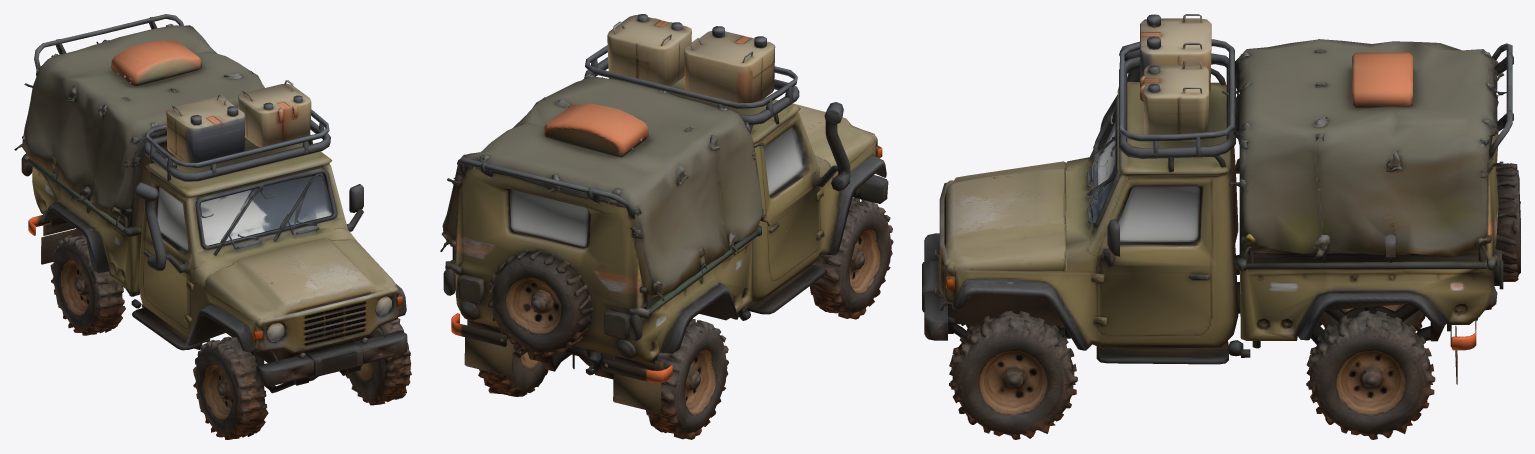
The model's file is ch1_expedition_supply_truck.glb.
The picture shows the model from 3 angles, left to right: view 1: azimuth 30°, elevation 25°; view 2: azimuth 150°, elevation 25°; view 3: azimuth 270°, elevation 25°; orthographic projection. The views are drawn at different scales.
Visible parts, largest first — view 1: tripo_node_460f9a1c-10bd-4294-aa59-0ef3abb51b50; view 2: tripo_node_460f9a1c-10bd-4294-aa59-0ef3abb51b50; view 3: tripo_node_460f9a1c-10bd-4294-aa59-0ef3abb51b50.
Part boxes in pixels (x1,y1,x2,y2): tripo_node_460f9a1c-10bd-4294-aa59-0ef3abb51b50: (14,14,411,439); tripo_node_460f9a1c-10bd-4294-aa59-0ef3abb51b50: (440,14,893,439); tripo_node_460f9a1c-10bd-4294-aa59-0ef3abb51b50: (922,14,1520,439).
Size of the model in its own units: 0.5254 by 0.627 by 0.998.
1 material, 1 textured.
